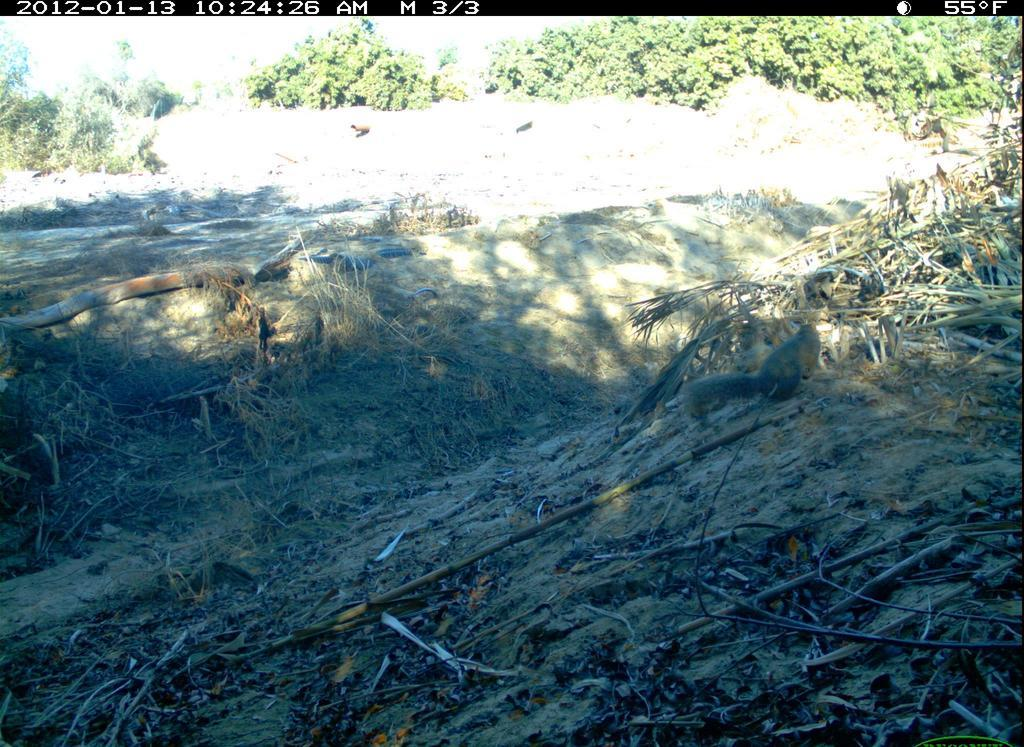squirrel: (680, 318, 825, 428)
